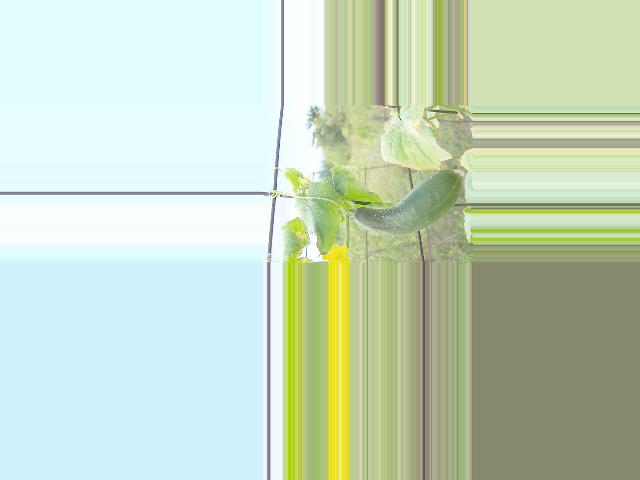cucumber: (352, 168, 461, 235)
